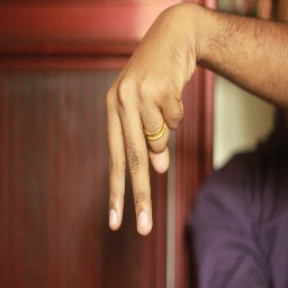Y: (99, 35, 199, 238)
